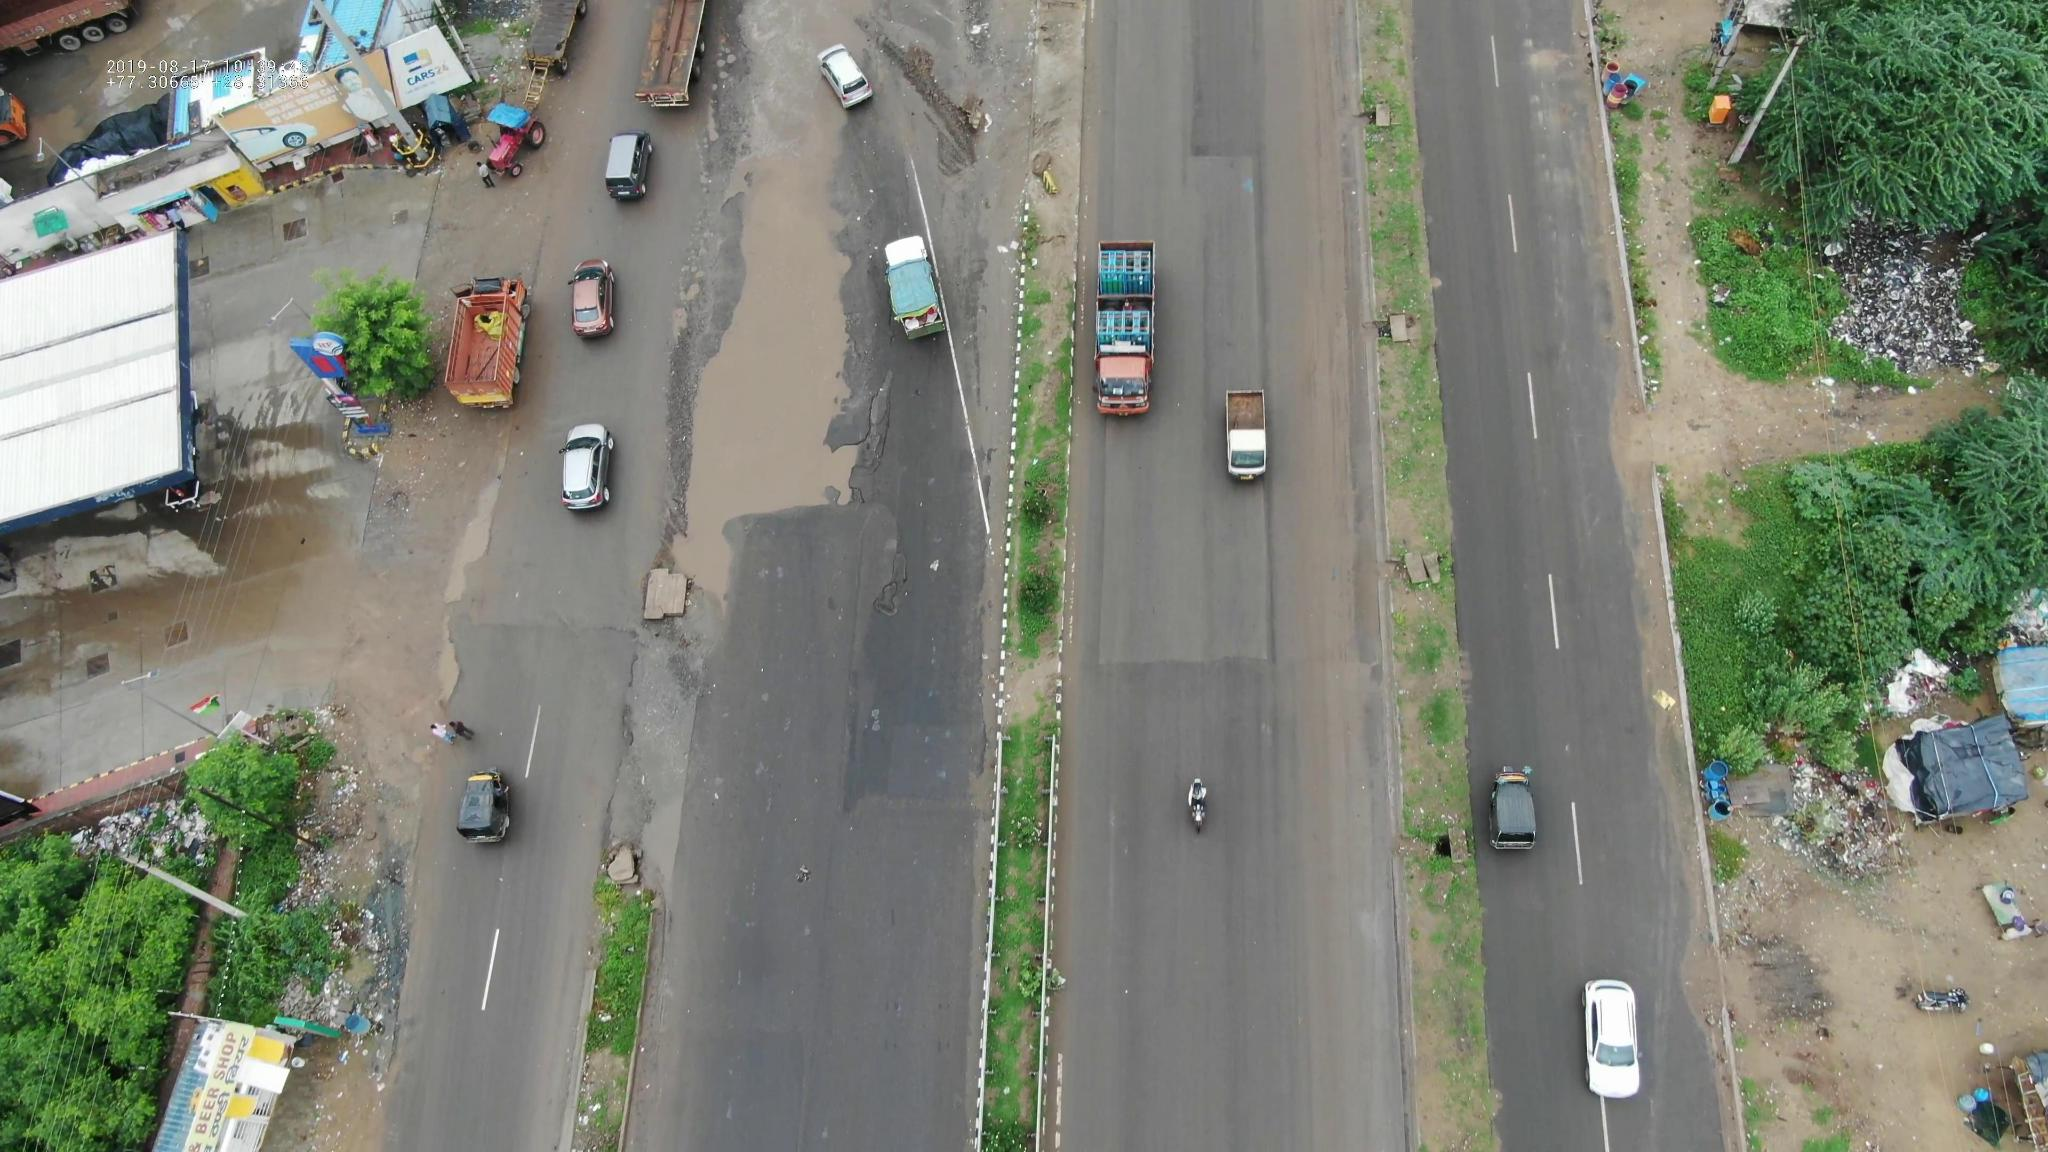Potholes: (428, 457, 525, 692), (1508, 25, 1582, 200), (1532, 194, 1580, 376)
Waterlogging: (641, 120, 873, 603)
